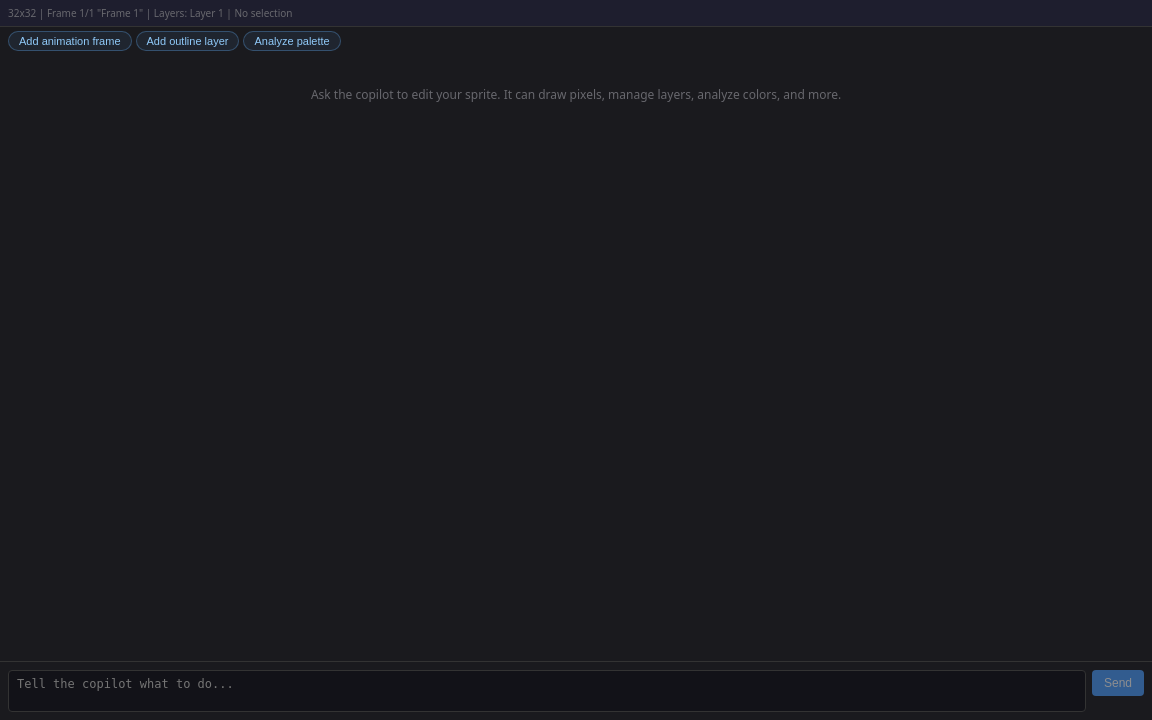
Test: CopilotPanel › shows user message after sending
The width and height of the screenshot is (1152, 720).
Type "Draw a red pixel" into the text box with test id "copilot-input" at (547, 691), box [8,670,1086,712]
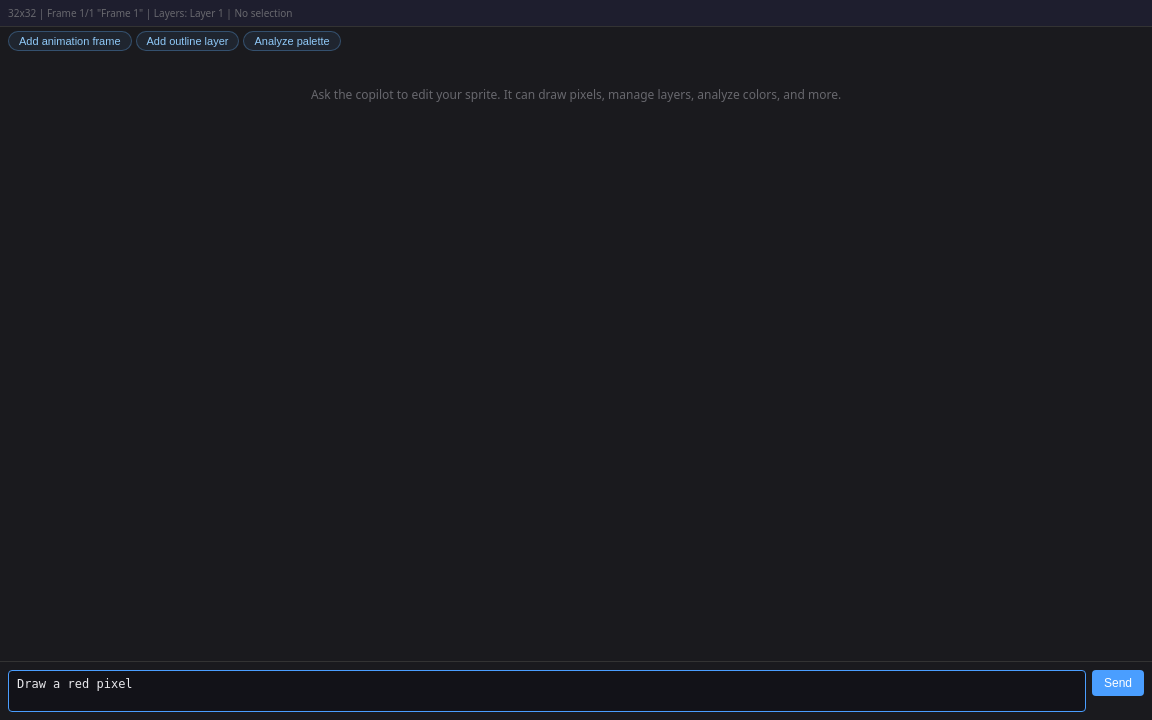
Click the button with test id "send-btn" at (1118, 683), box [1092,670,1144,696]
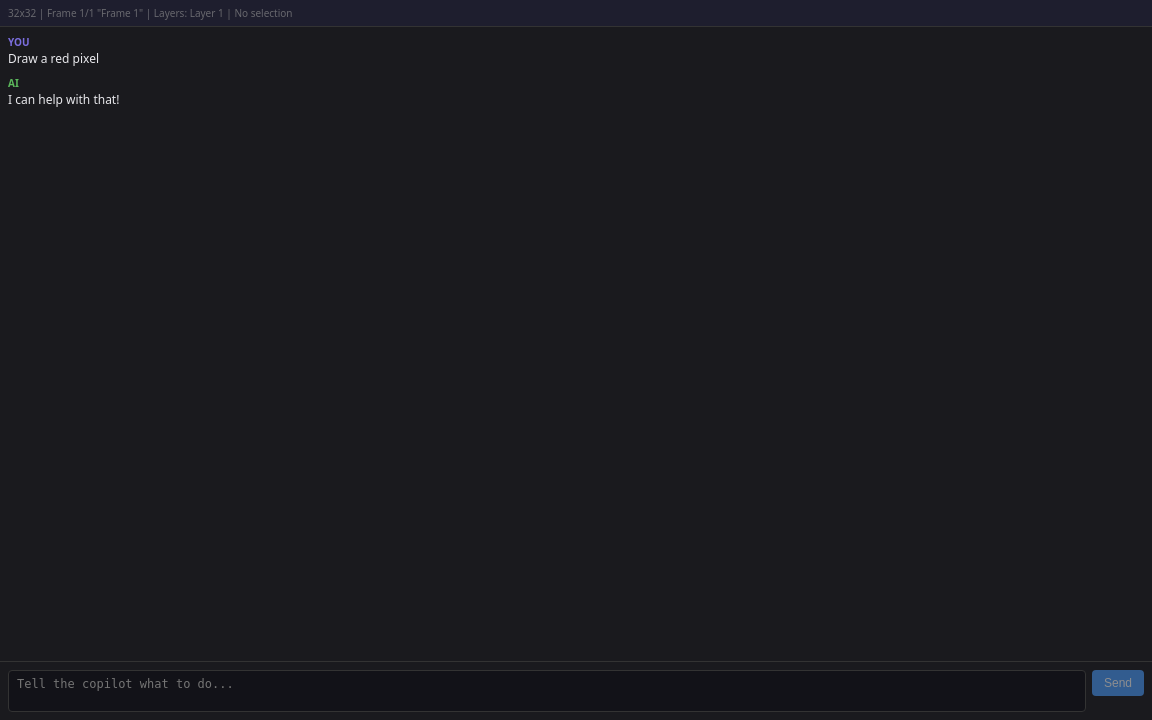
Now the text "Draw a red pixel" is shown, box [8,50,99,67]
Now the text "I can help with that!" is shown, box [8,91,119,108]
